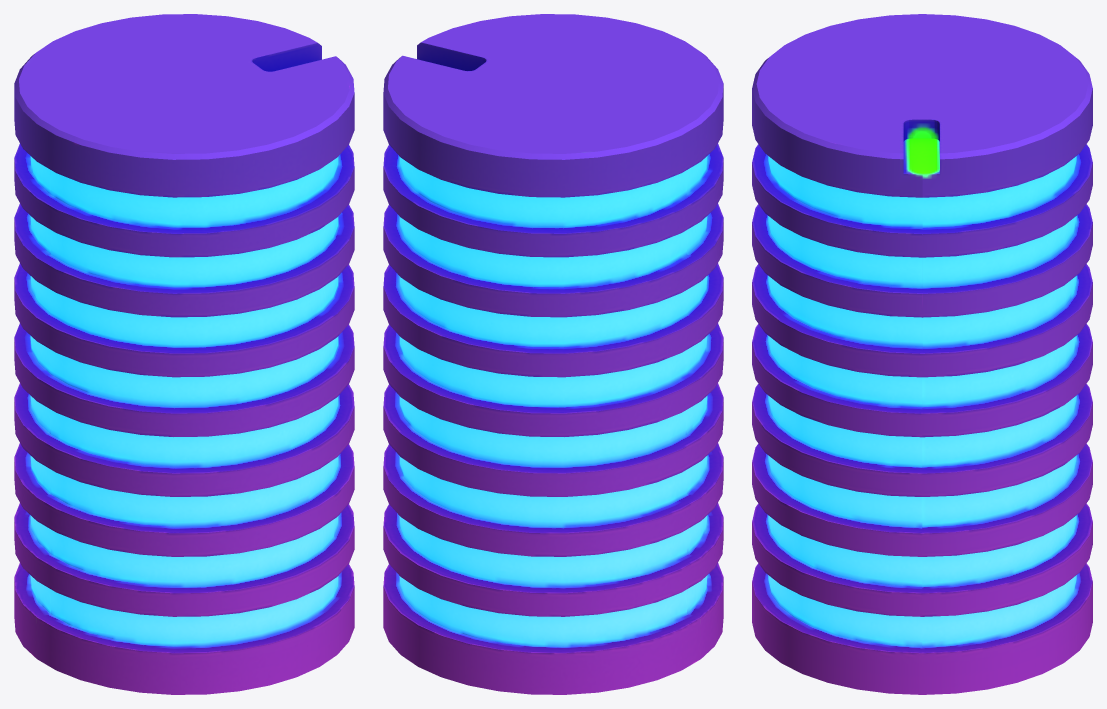
File: bein_database.glb
3 views of the same model, side by side, from view 1: azimuth 30°, elevation 25°; view 2: azimuth 150°, elevation 25°; view 3: azimuth 270°, elevation 25° (orthographic).
Visible parts, largest first — view 1: Cylinder_Base Mat_0; view 2: Cylinder_Base Mat_0; view 3: Cylinder_Base Mat_0.
Part boxes in pixels (x1,y1,x2,y2): Cylinder_Base Mat_0: (14, 14, 354, 694); Cylinder_Base Mat_0: (383, 14, 723, 694); Cylinder_Base Mat_0: (752, 14, 1092, 694).
Bounding box in the file's own units: 1.32 × 2.31 × 1.32.
1 material, 1 textured.
